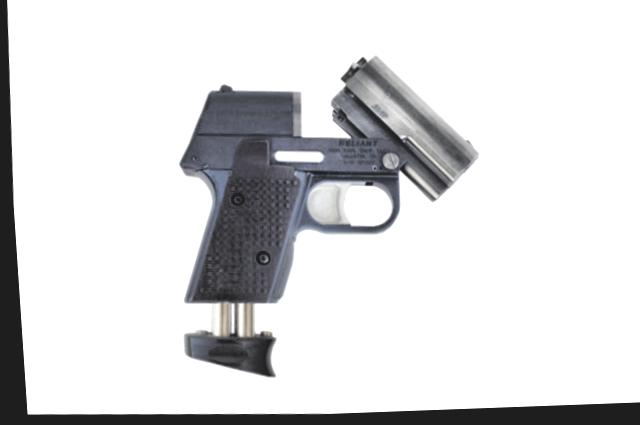pistol: (120, 47, 503, 397)
